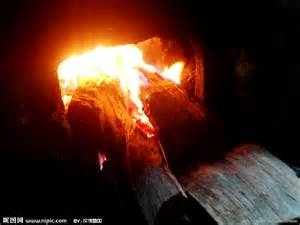fire: (56, 36, 188, 135), (160, 59, 186, 83)
